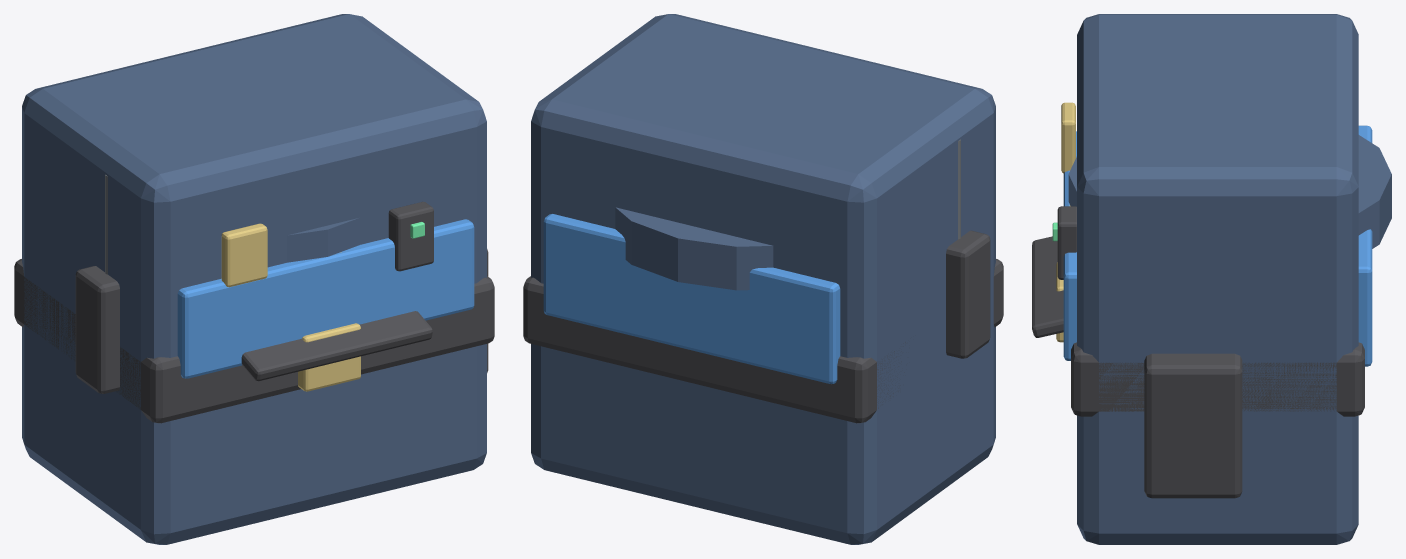
File: SM_ResponderKit_Police.fbx
3 renders of one model, left to right at view 1: azimuth 30°, elevation 25°; view 2: azimuth 150°, elevation 25°; view 3: azimuth 270°, elevation 25°, orthographic.
Visible parts, largest first — view 1: PoliceTacticalVest, PoliceDutyBelt, PolicePeakedCap; view 2: PoliceTacticalVest, PoliceDutyBelt, PolicePeakedCap; view 3: PoliceTacticalVest, PoliceDutyBelt, PolicePeakedCap.
Part boxes in pixels (box(x1,y1,x2,y2)): PoliceTacticalVest: box(22, 14, 486, 544); PoliceDutyBelt: box(14, 174, 494, 423); PolicePeakedCap: box(241, 217, 432, 381); PoliceTacticalVest: box(531, 14, 995, 544); PoliceDutyBelt: box(523, 139, 1003, 423); PolicePeakedCap: box(615, 207, 773, 290); PoliceTacticalVest: box(1052, 14, 1372, 544); PoliceDutyBelt: box(1056, 262, 1364, 498); PolicePeakedCap: box(1032, 135, 1391, 337).
Bounding box in the file's own units: 37.65 × 29.37 × 34.
